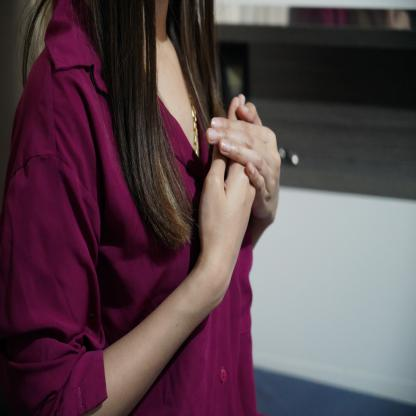Grieve: (185, 93, 285, 308)
